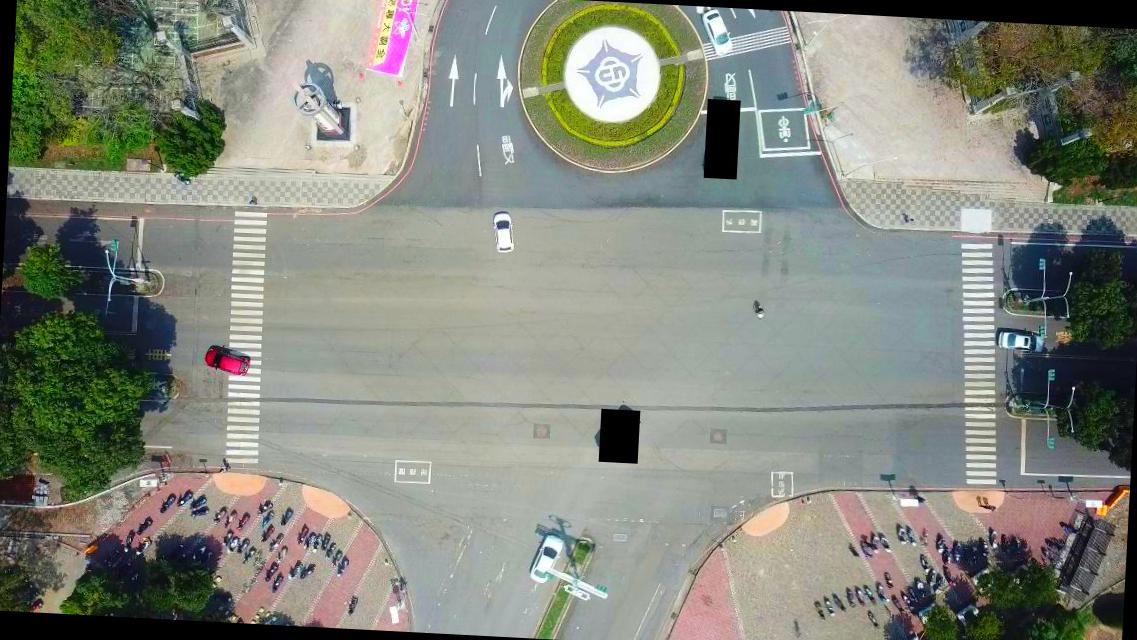vehicle: (528, 532, 564, 584), (698, 8, 733, 58), (204, 349, 249, 375), (490, 211, 514, 253), (996, 330, 1044, 350)
